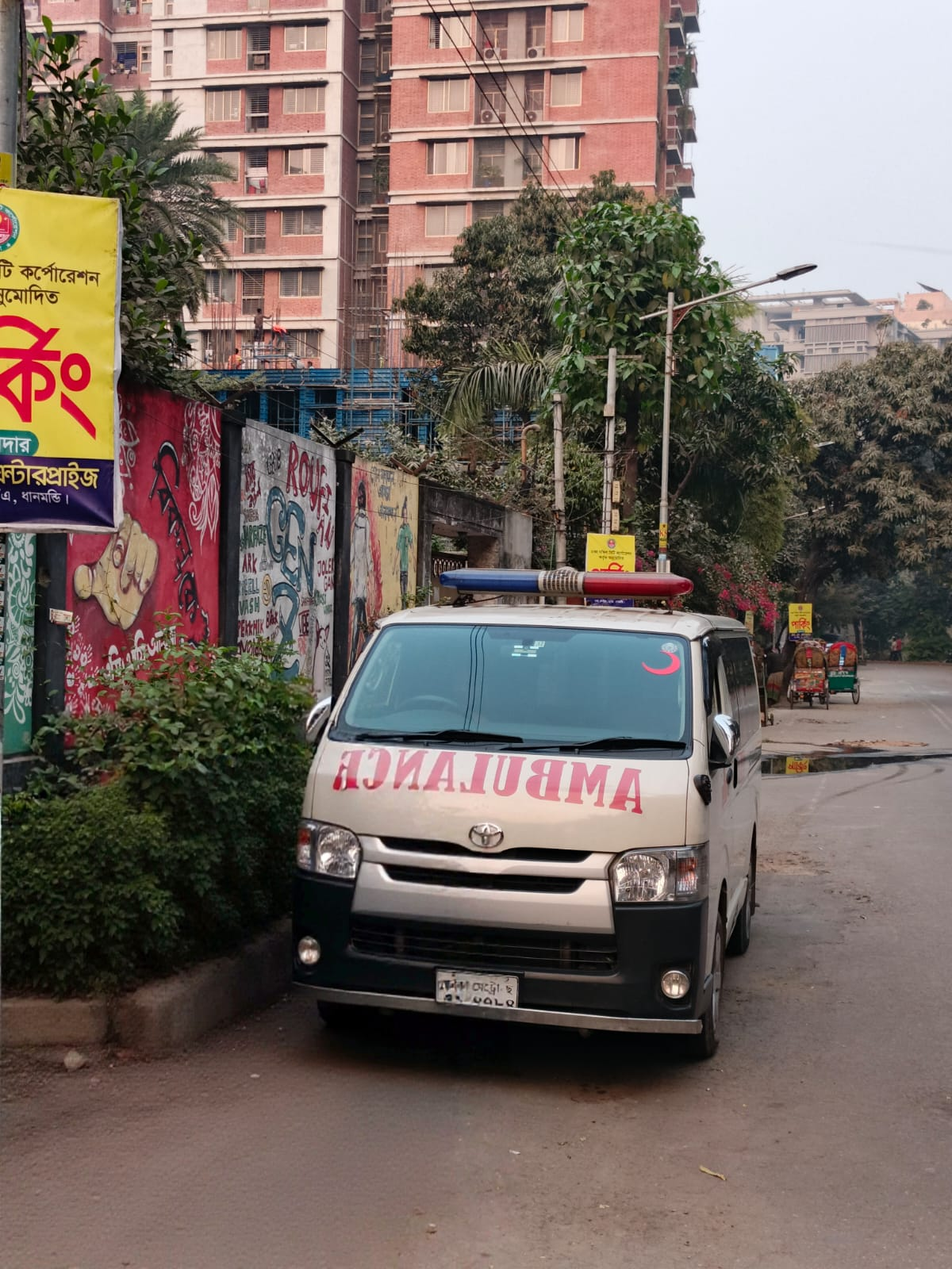Ambulance: (296, 529, 781, 1141)
auto-ricksaw: (770, 619, 867, 720)
